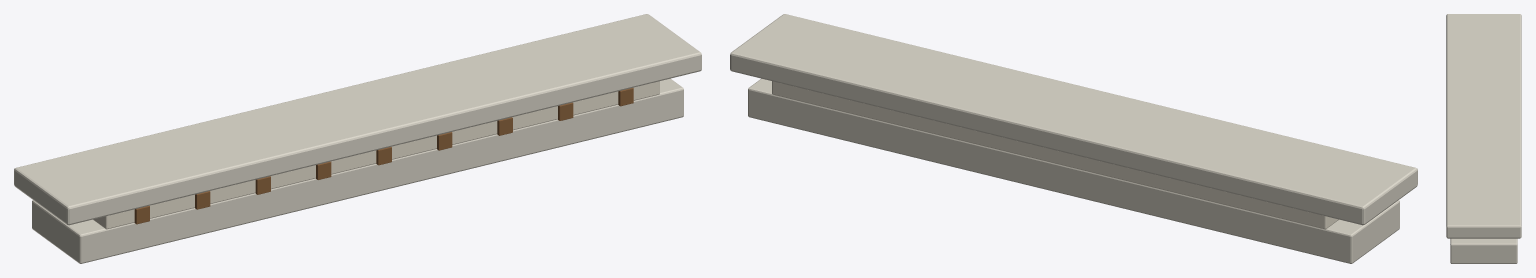
File: Greek_Gateway_Entablature.fbx
The picture shows the model from 3 angles, left to right: view 1: azimuth 30°, elevation 25°; view 2: azimuth 150°, elevation 25°; view 3: azimuth 270°, elevation 25°; orthographic projection. The views are drawn at different scales.
Visible parts, largest first — view 1: Greek_Gateway_Entablature - Fresh Marble Edge, Greek_Gateway_Entablature - Aged Pentelic Marble, Greek_Gateway_Entablature - Aged Bronze; view 2: Greek_Gateway_Entablature - Fresh Marble Edge, Greek_Gateway_Entablature - Aged Pentelic Marble; view 3: Greek_Gateway_Entablature - Fresh Marble Edge.
Boxes of the visible parts, <box> form: Greek_Gateway_Entablature - Fresh Marble Edge: <box>14,14,701,263</box>; Greek_Gateway_Entablature - Aged Pentelic Marble: <box>93,81,659,229</box>; Greek_Gateway_Entablature - Aged Bronze: <box>134,88,633,224</box>; Greek_Gateway_Entablature - Fresh Marble Edge: <box>730,14,1417,263</box>; Greek_Gateway_Entablature - Aged Pentelic Marble: <box>772,81,1338,229</box>; Greek_Gateway_Entablature - Fresh Marble Edge: <box>1446,14,1521,263</box>.
Size of the model in its own units: 31.5 by 3 by 4.7.
